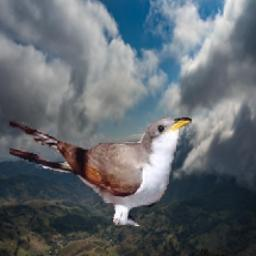Cuckoo: (11, 115, 193, 226)
